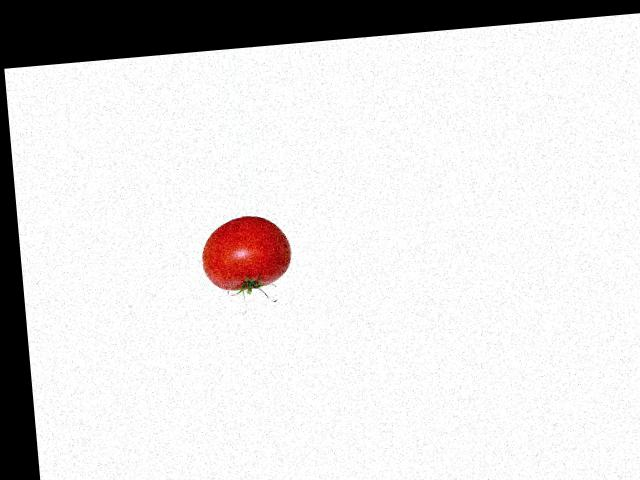tomato: (199, 213, 292, 292)
